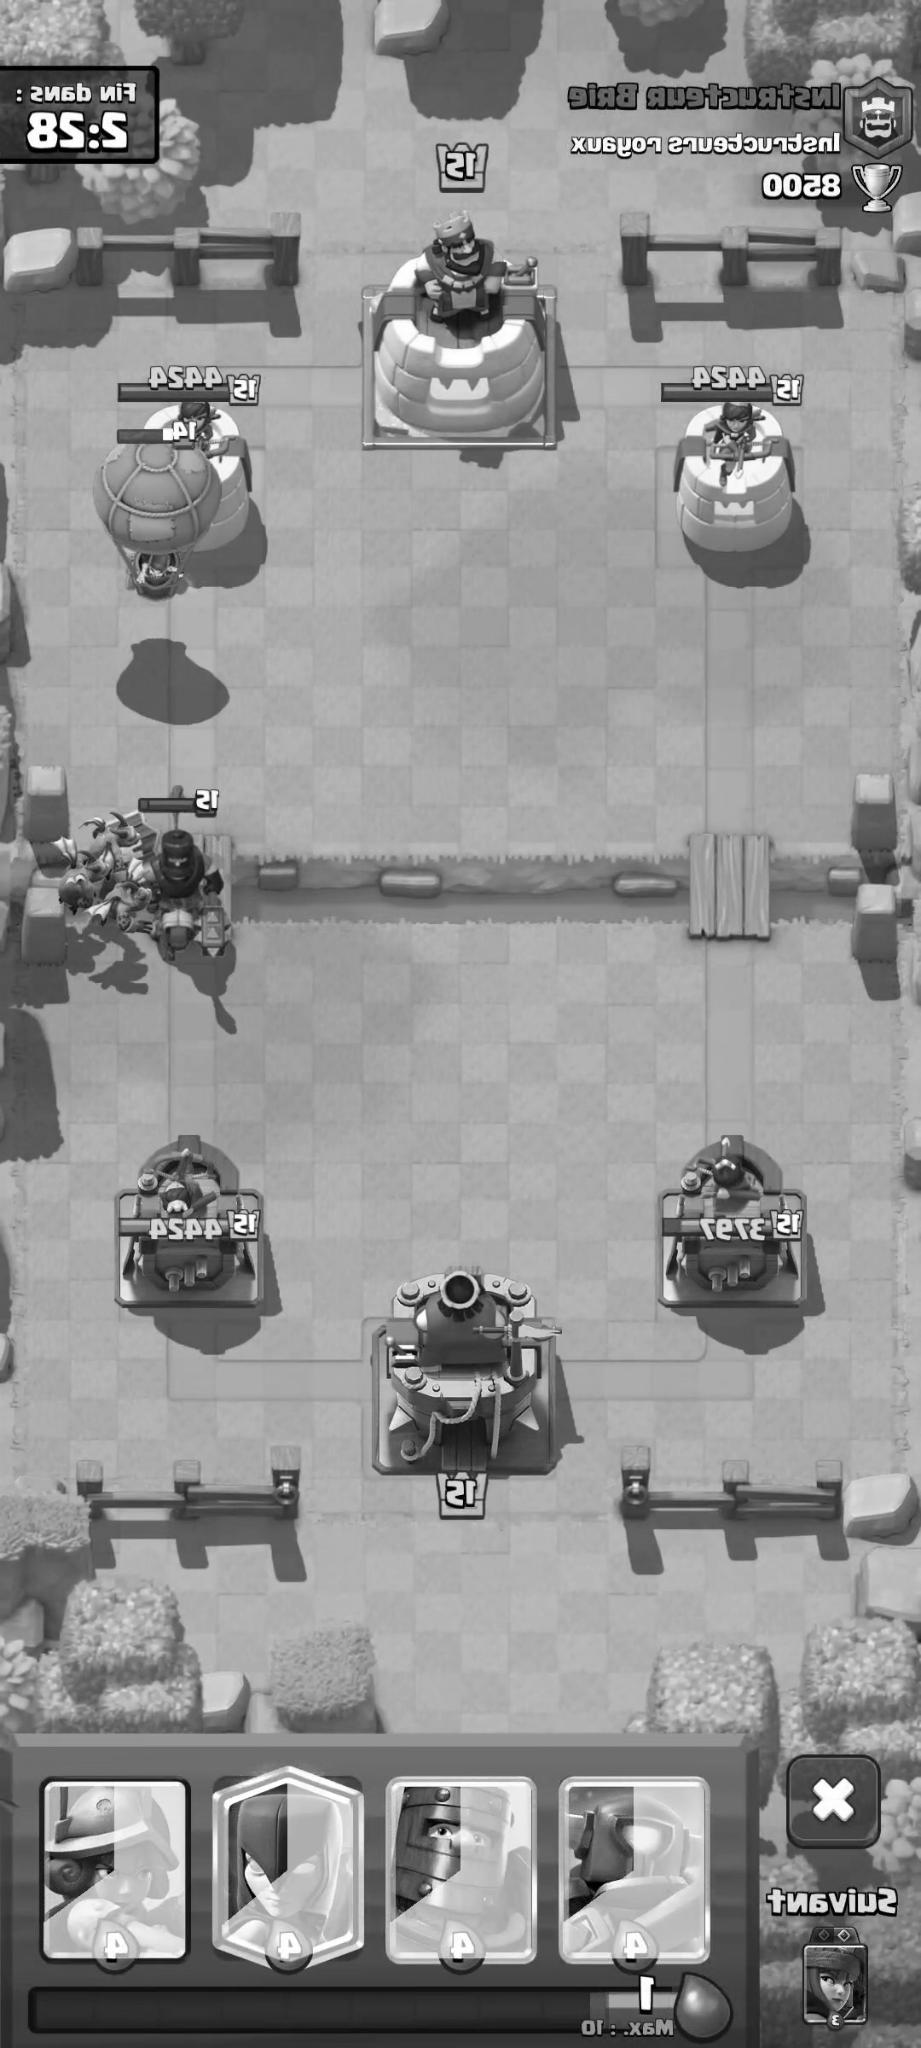gargouille: (44, 842, 116, 920), (103, 859, 157, 942), (84, 808, 140, 880)
